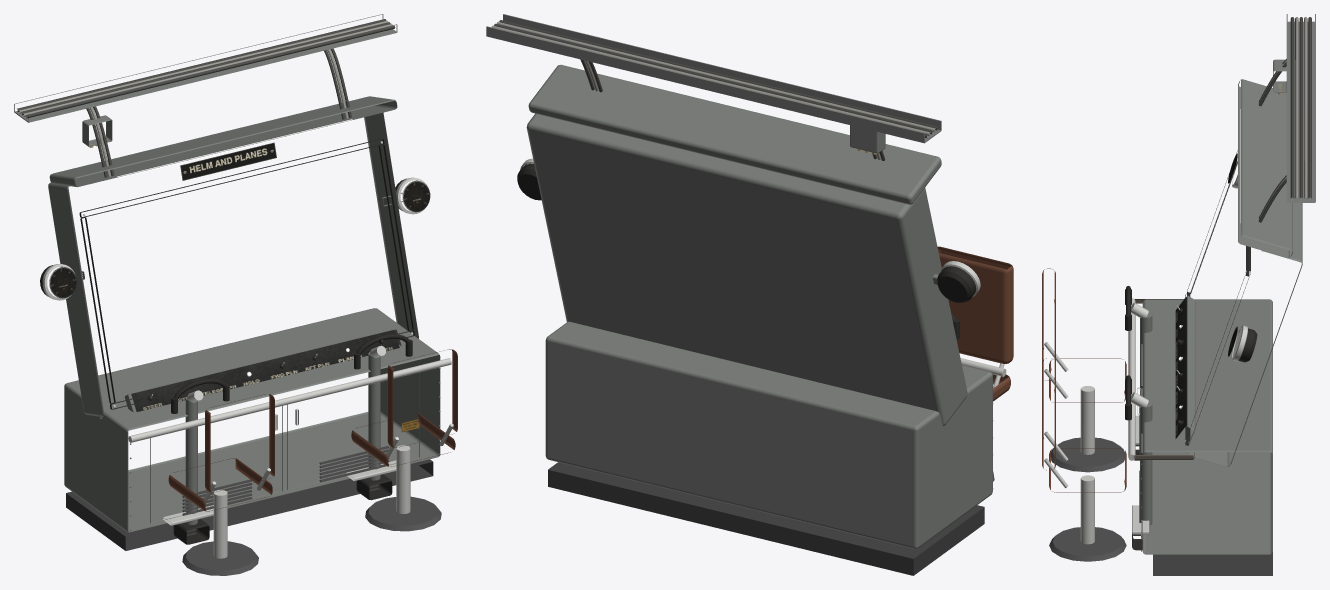
File: helm_and_planes.glb
The picture shows the model from 3 angles, left to right: view 1: azimuth 30°, elevation 25°; view 2: azimuth 150°, elevation 25°; view 3: azimuth 270°, elevation 25°; orthographic projection. The views are drawn at different scales.
Visible parts, largest first — view 1: body; view 2: body; view 3: body.
Part boxes in pixels (<box>): body: <box>14,14,457,575</box>; body: <box>486,14,1013,575</box>; body: <box>1042,14,1315,575</box>.
Bounding box in the file's own units: 2.53 × 2.48 × 1.55.
12 materials, 5 textured.
